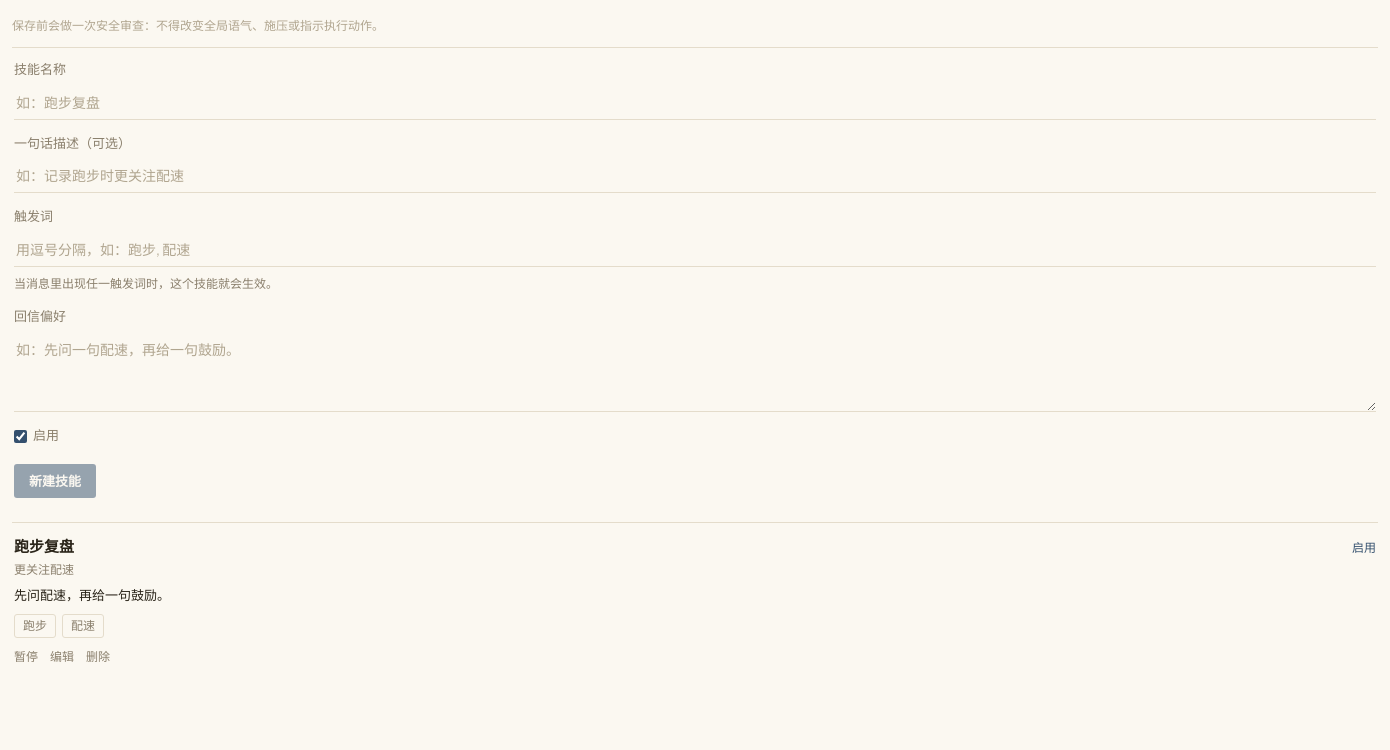
Test case: CustomSkillsManager › deletes a skill after confirmation
Click the button with test id "custom-skill-delete". click: (98, 657)
box: [86,648,110,666]
(page scrolled)
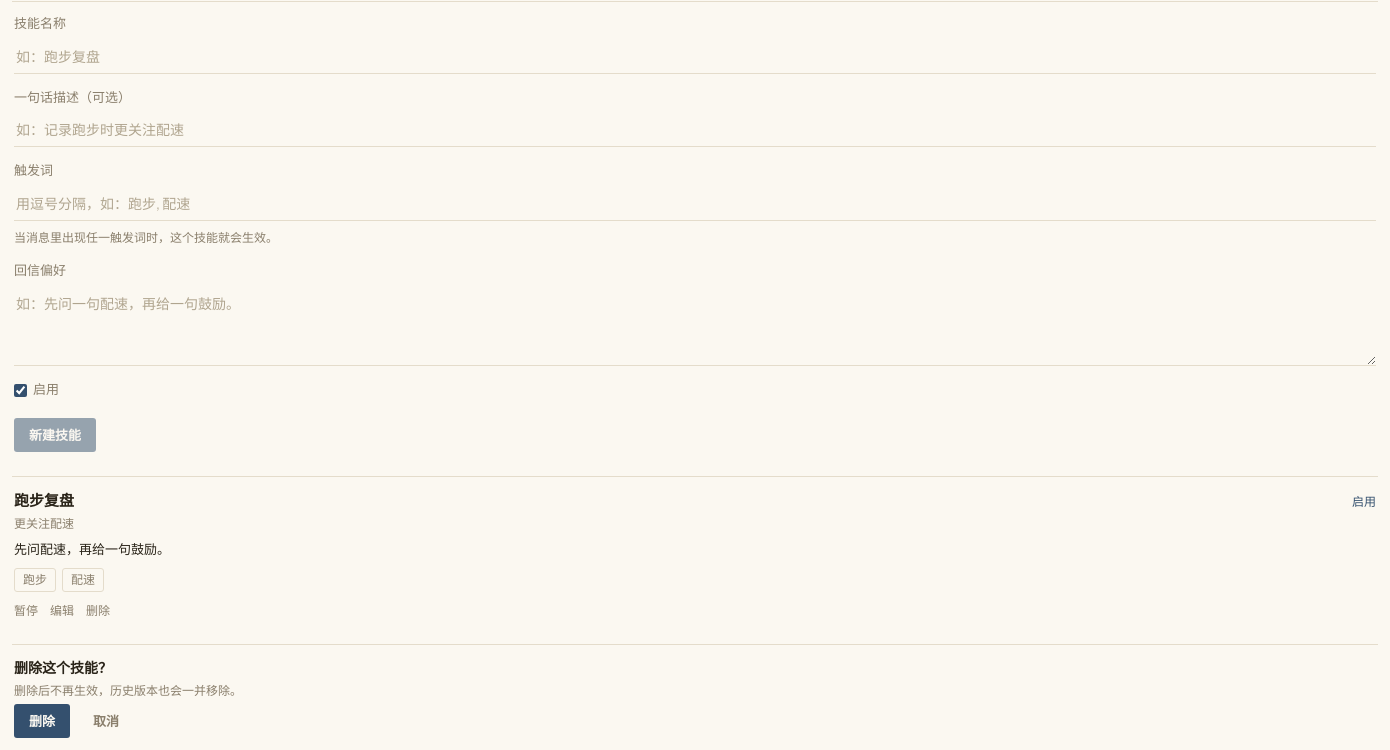
Check: the text "删除这个技能？" is shown, box [14,658,112,676]
Click the button with test id "custom-skill-delete-confirm". click: (42, 721)
box: [14,704,70,738]
(page scrolled)
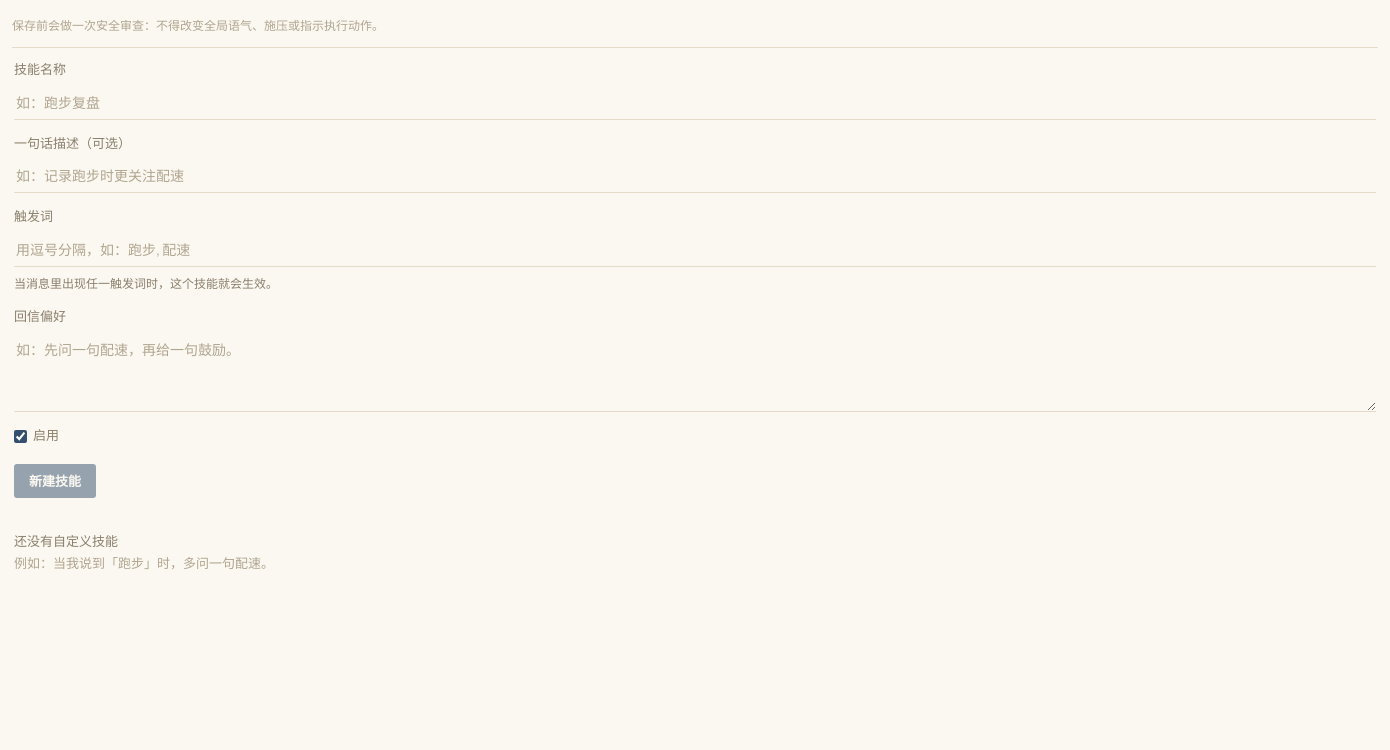
Check: no list items with test id "custom-skill-item" are shown
